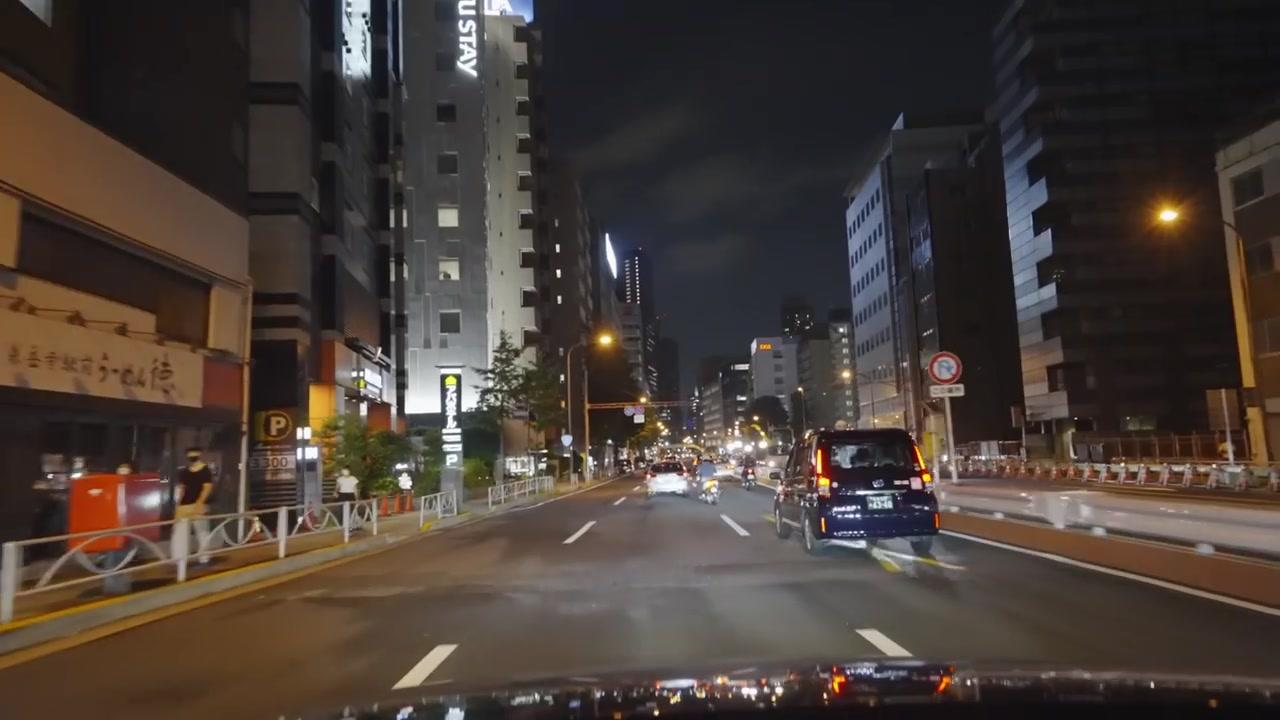car: (770, 428, 936, 561), (828, 661, 980, 710), (648, 466, 688, 496)
motorcycle: (701, 478, 720, 505)
person: (170, 447, 215, 578), (334, 467, 360, 532)
